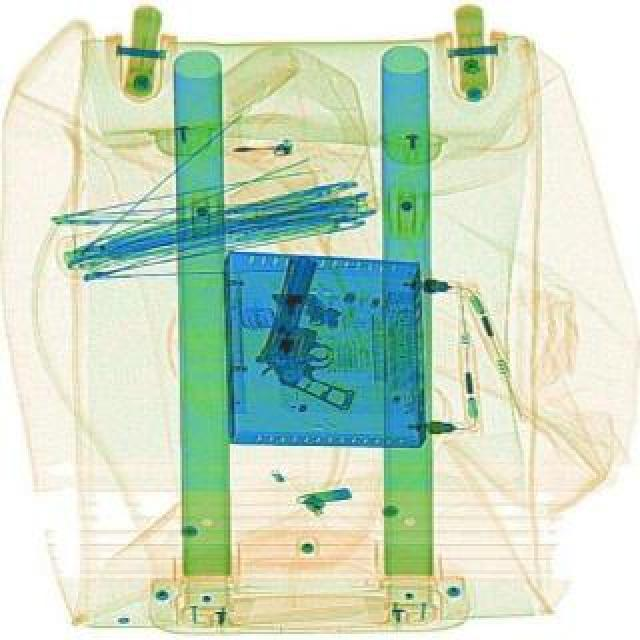gun: (246, 252, 386, 412)
